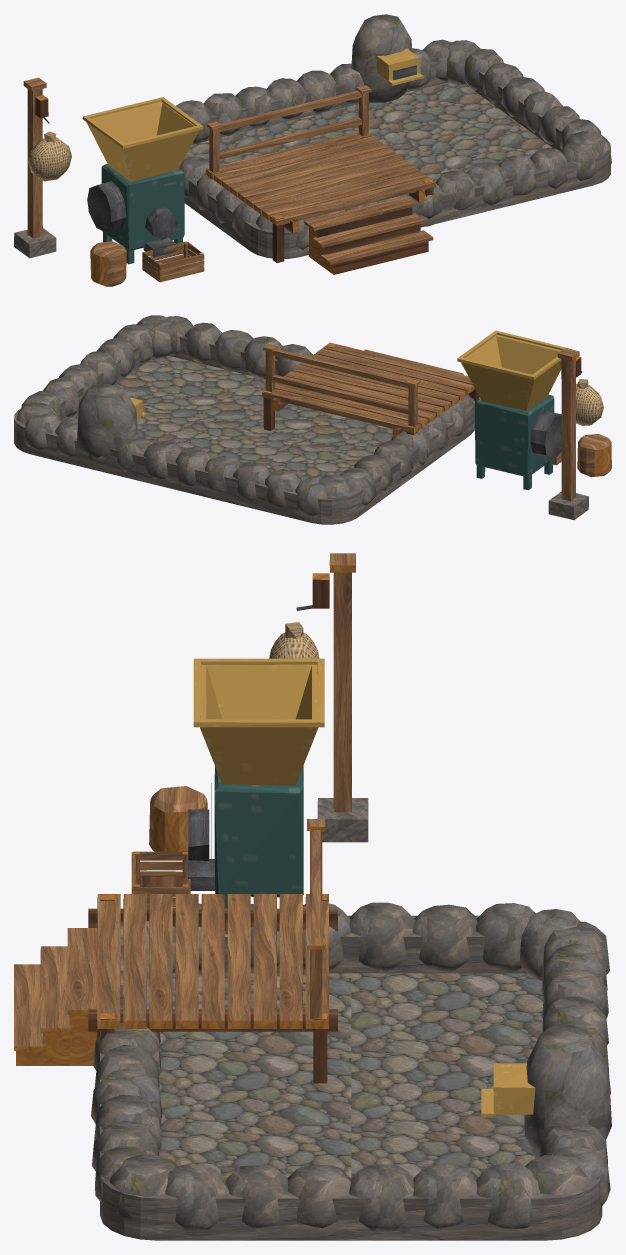
File: FishPond_Cozy_LOD2.fbx
The picture shows the model from 3 angles, top to bottom: view 1: azimuth 30°, elevation 25°; view 2: azimuth 150°, elevation 25°; view 3: azimuth 270°, elevation 25°; orthographic projection. The views are drawn at different scales.
Visible parts, largest first — view 1: FishPond_Cozy_LOD2; view 2: FishPond_Cozy_LOD2; view 3: FishPond_Cozy_LOD2.
Boxes of the visible parts, x1=… form: FishPond_Cozy_LOD2: x1=14, y1=14, x2=611, y2=286; FishPond_Cozy_LOD2: x1=14, y1=315, x2=611, y2=524; FishPond_Cozy_LOD2: x1=14, y1=553, x2=611, y2=1240.
Size of the model in its own units: 12.11 by 3.61 by 7.14.
